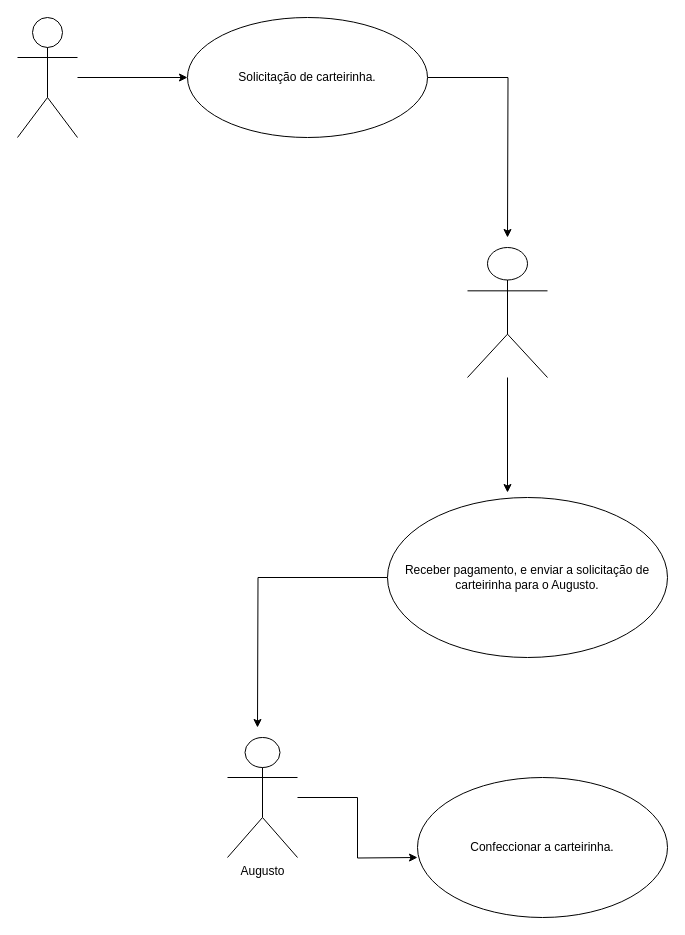
This 685x935 diagram has some shape labels left out. Here are the shapes that lost their labels. From the top down, the centre of each, then its label:
At [47,77]: "ALUNO".
At [507,312]: "Marisa".
